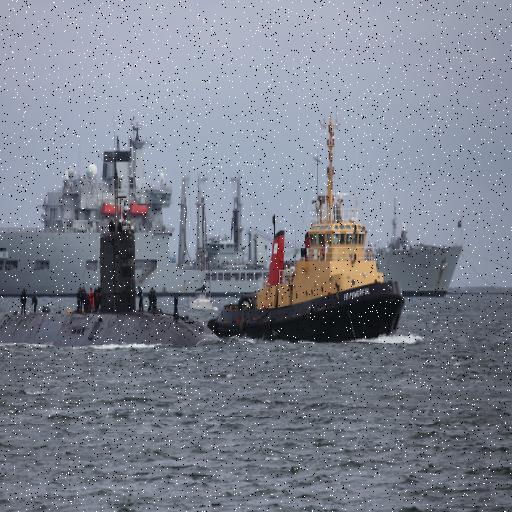submarine: (1, 229, 219, 350)
